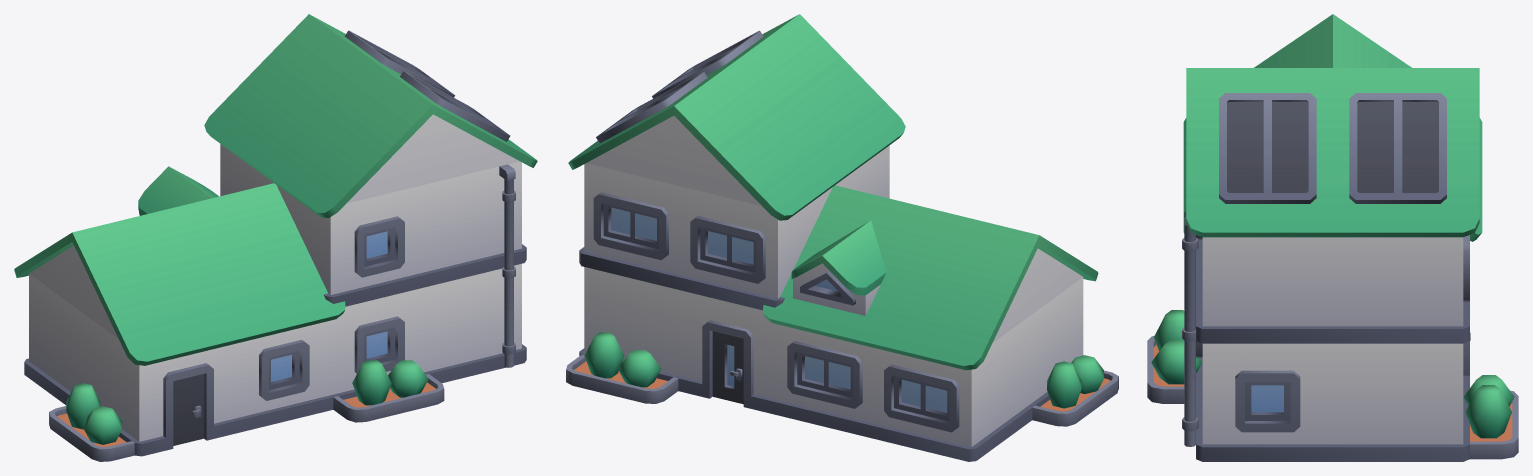
Rendered from house_1.fbx.
3 renders of one model, left to right at view 1: azimuth 30°, elevation 25°; view 2: azimuth 150°, elevation 25°; view 3: azimuth 270°, elevation 25°, orthographic. The views are drawn at different scales.
Visible parts, largest first — view 1: house_1; view 2: house_1; view 3: house_1.
Boxes of the visible parts, box(x1,y1,x2,y2) form: house_1: box(14, 14, 537, 461); house_1: box(566, 14, 1118, 461); house_1: box(1147, 14, 1518, 461).
Size of the model in its own units: 1.83 by 1.14 by 1.14.
Materials: 1 (1 with a texture image).
